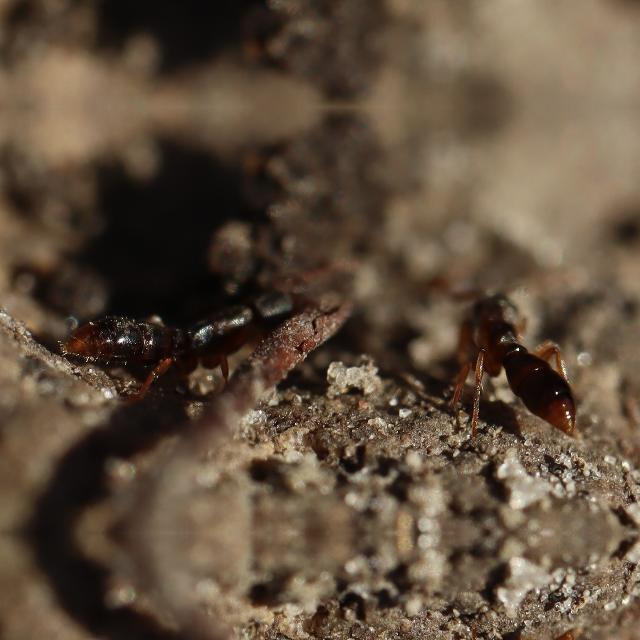Ponera: (420, 255, 602, 439), (67, 256, 316, 384)
